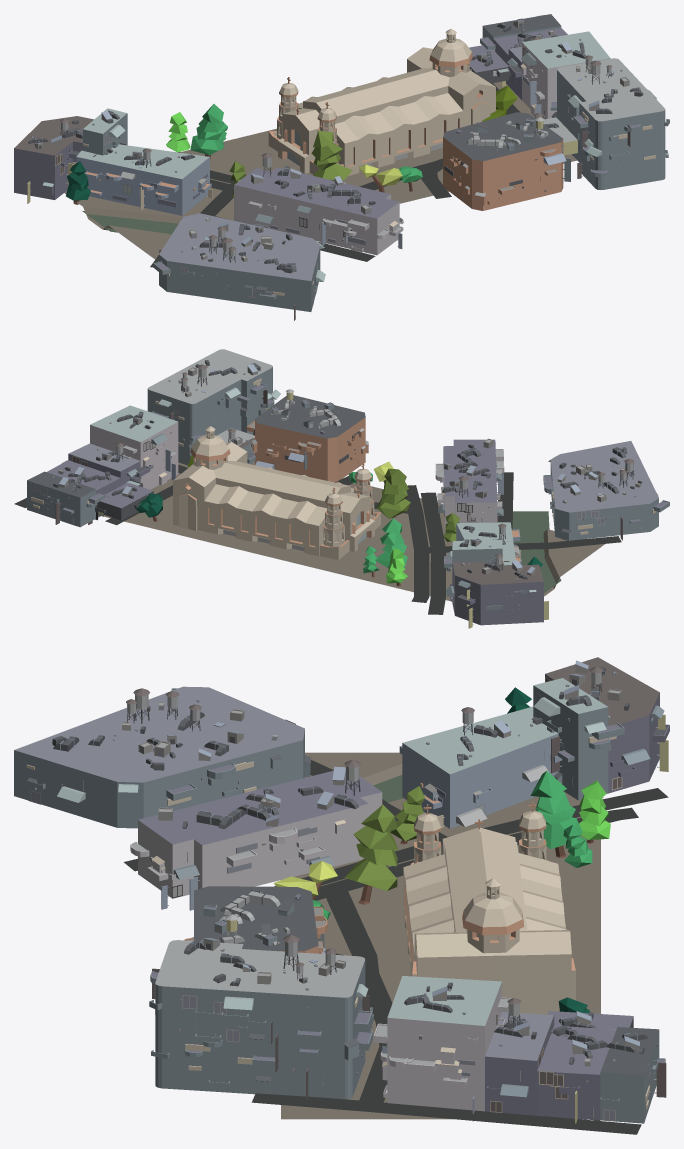
The model's file is MN_Env4.fbx.
The picture shows the model from 3 angles, top to bottom: view 1: azimuth 30°, elevation 25°; view 2: azimuth 150°, elevation 25°; view 3: azimuth 270°, elevation 25°; orthographic projection. The views are drawn at different scales.
Visible parts, largest first — view 1: Env_MN_04; view 2: Env_MN_04; view 3: Env_MN_04.
Part boxes in pixels (bbox=[...]): Env_MN_04: bbox=[14, 14, 669, 320]; Env_MN_04: bbox=[14, 349, 669, 628]; Env_MN_04: bbox=[14, 657, 669, 1134].
Size of the model in its own units: 8999 by 1552 by 6046.
